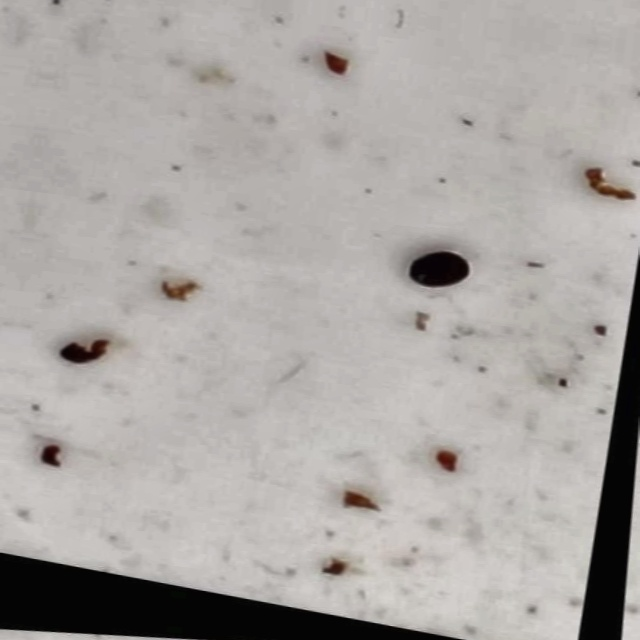varroa: (404, 244, 476, 300)
